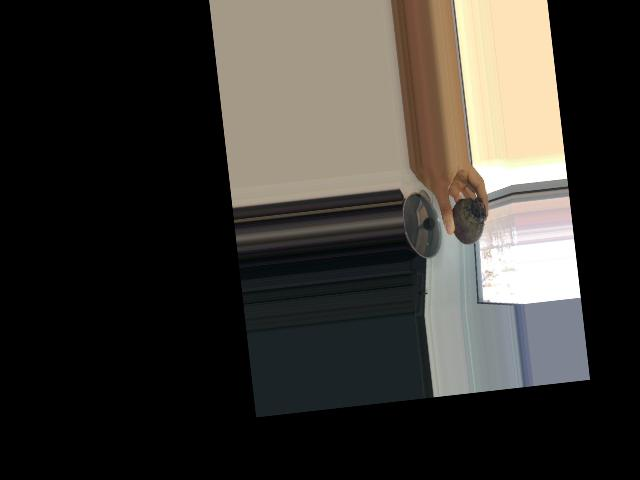beet: (447, 183, 489, 246)
